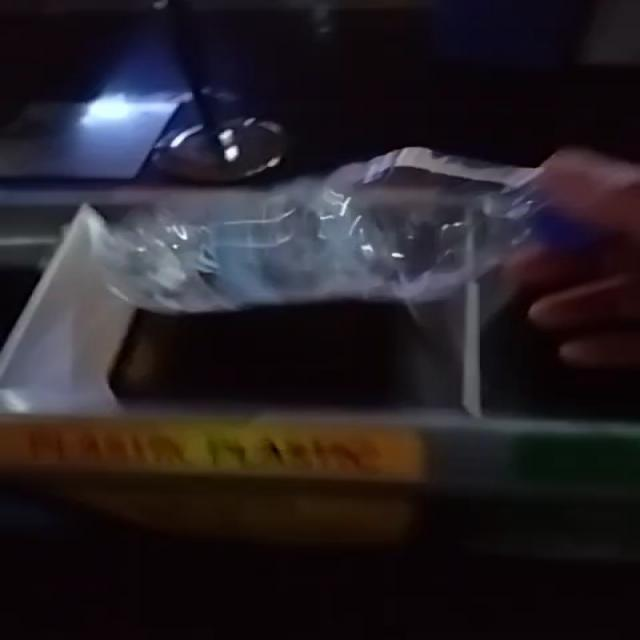plastic: (103, 148, 555, 313)
